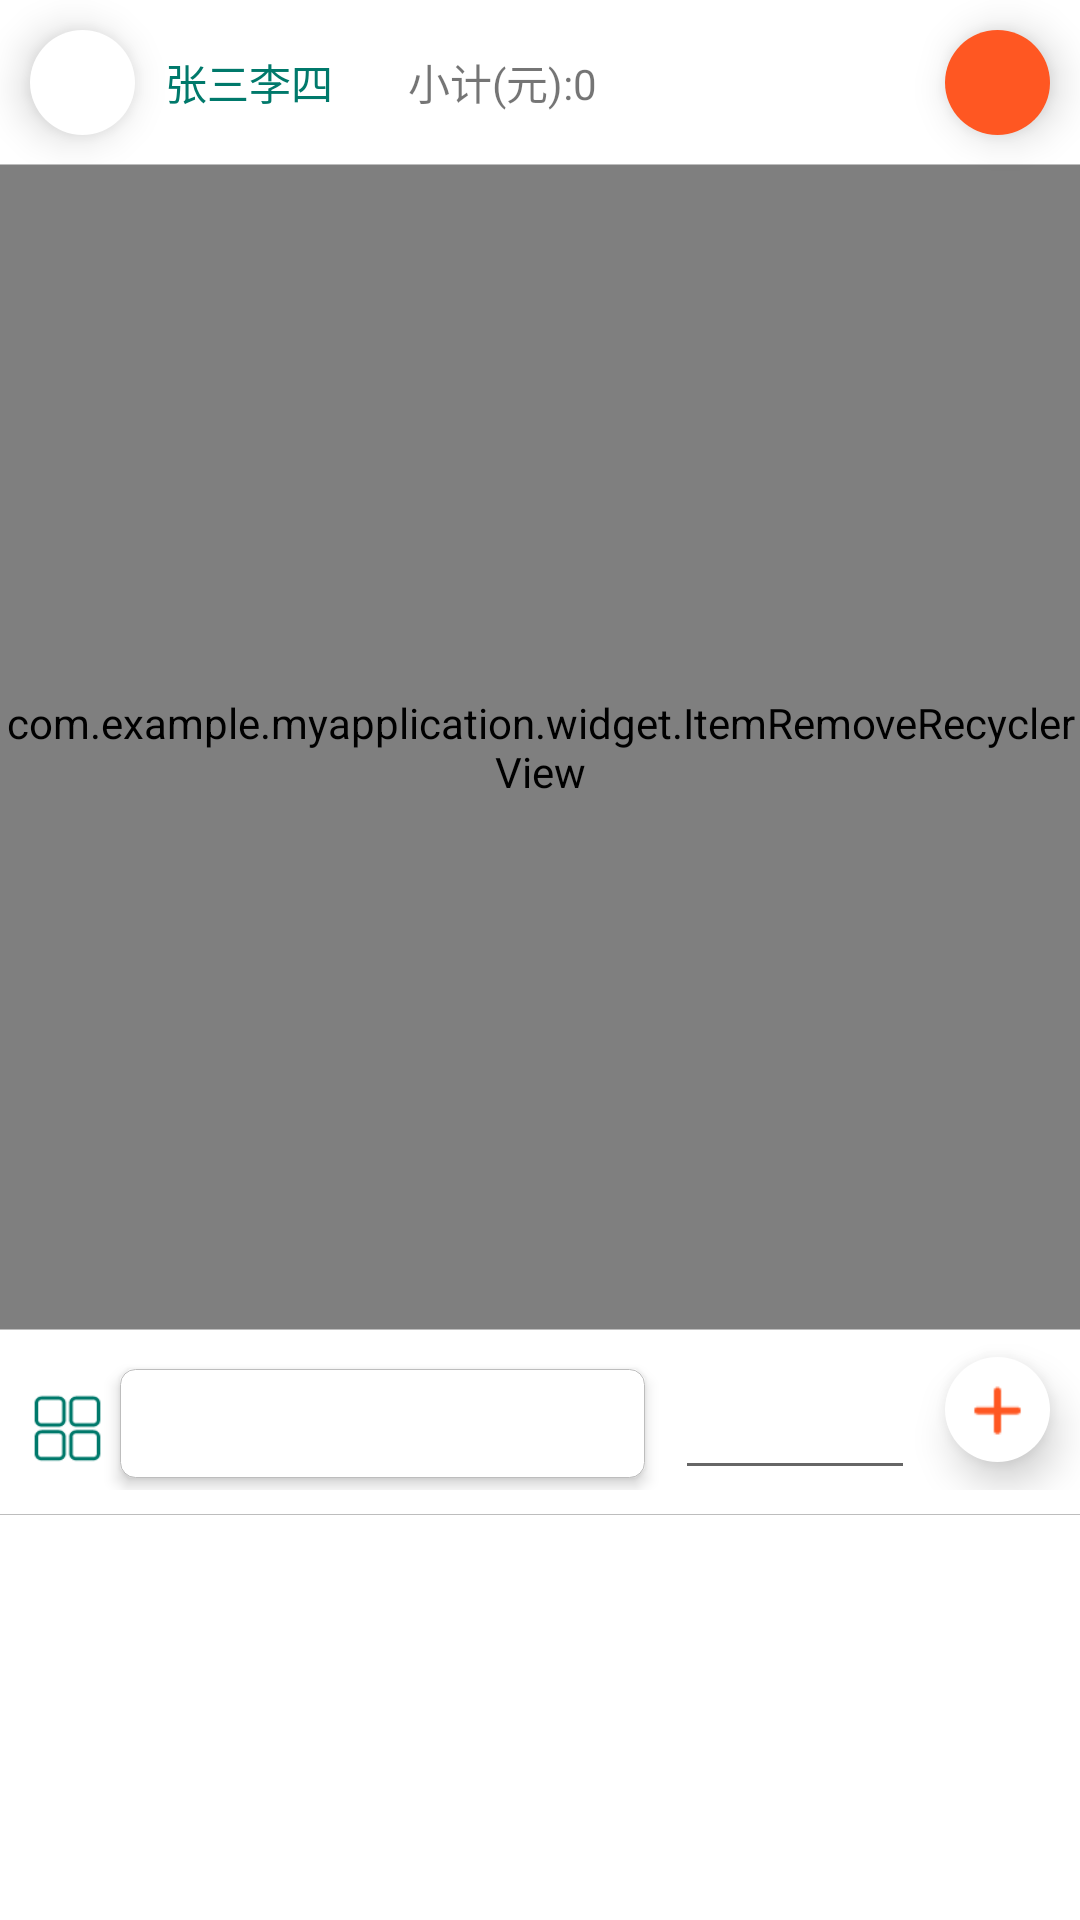

Named icons in this screenshot (1080 × 1920) and their bounding boxes, BBox(x1, y1, x2, y2):
add: BBox(974, 1386, 1021, 1435)
